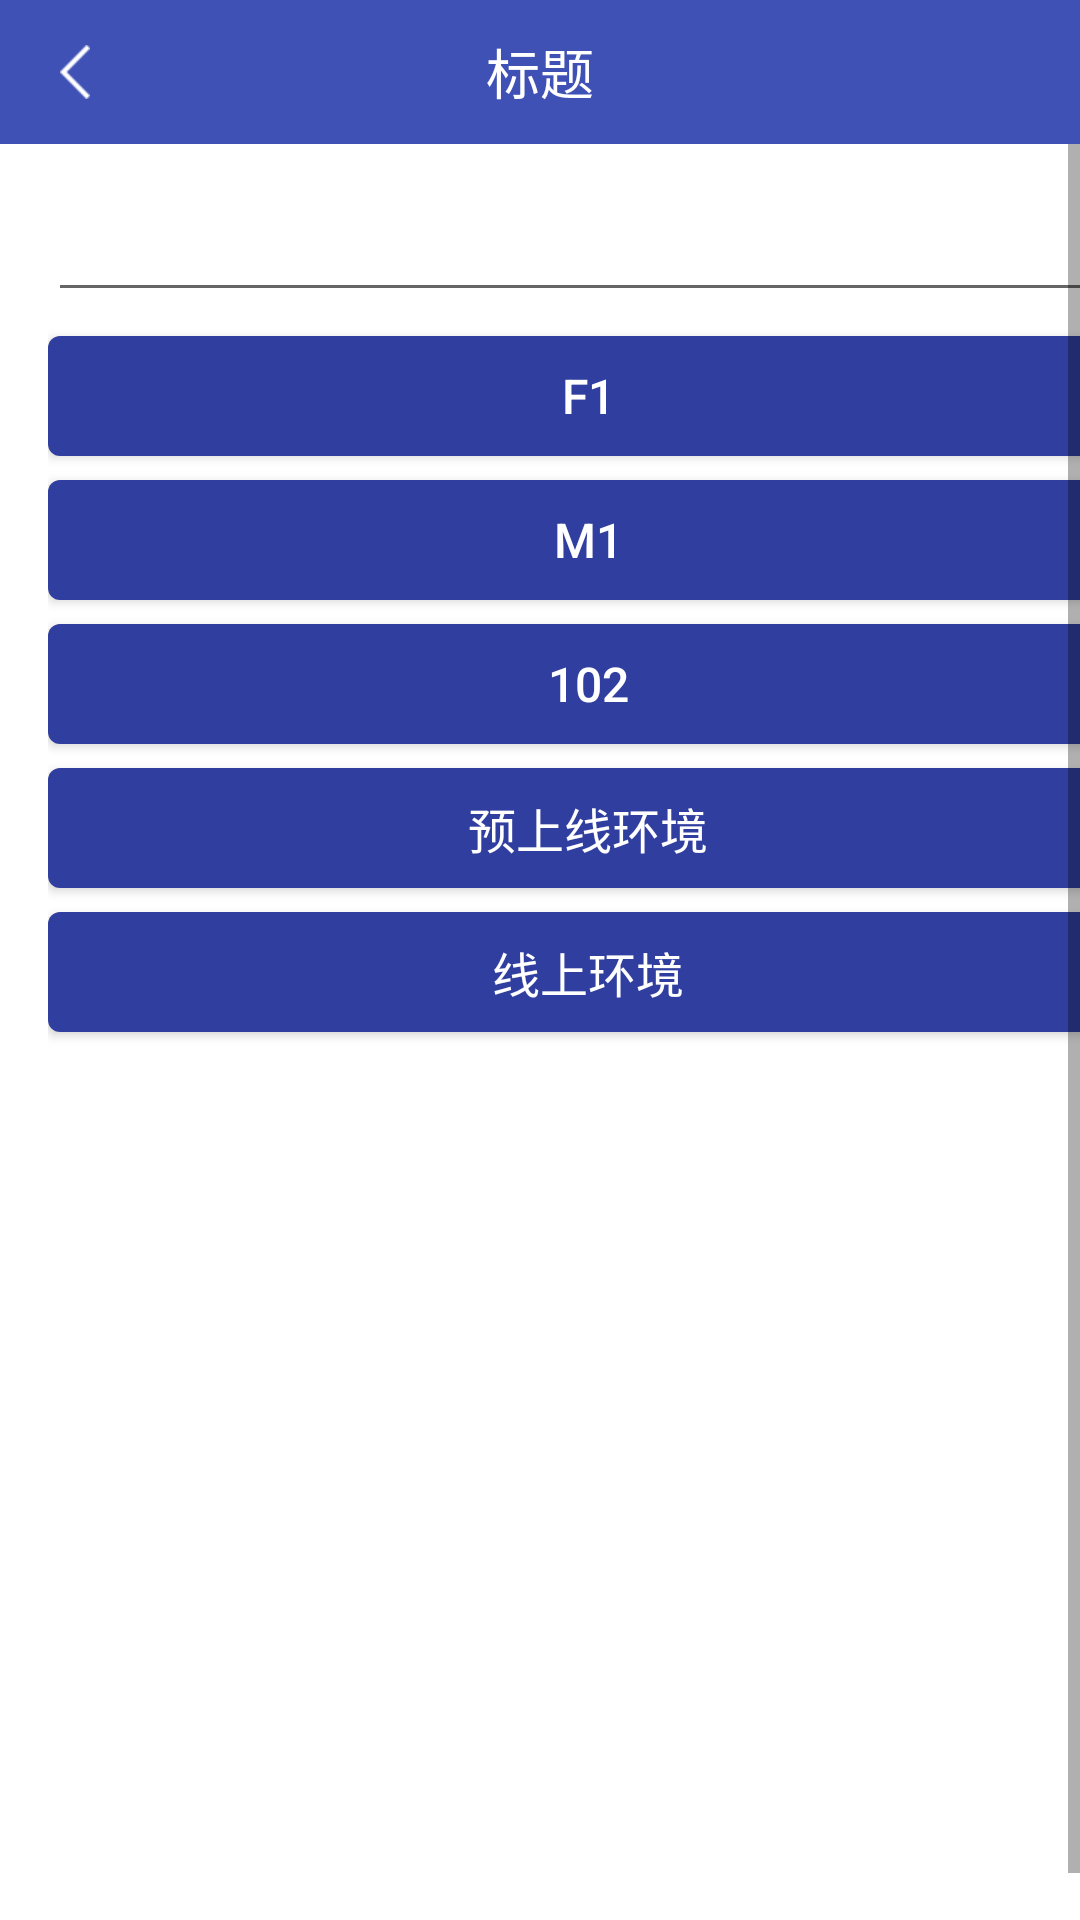

Point at icon controls on the screen. Image size 1080*1920, points as (x,y).
back: (75,72)
